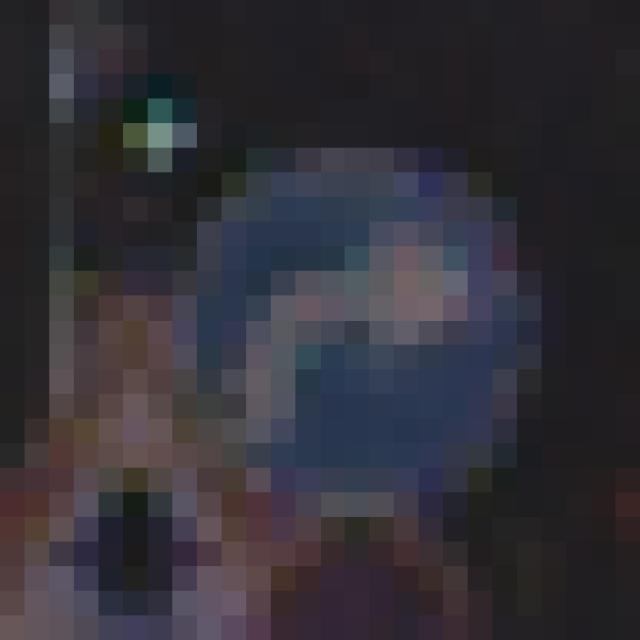Turn right ahead: (144, 134, 611, 528)
